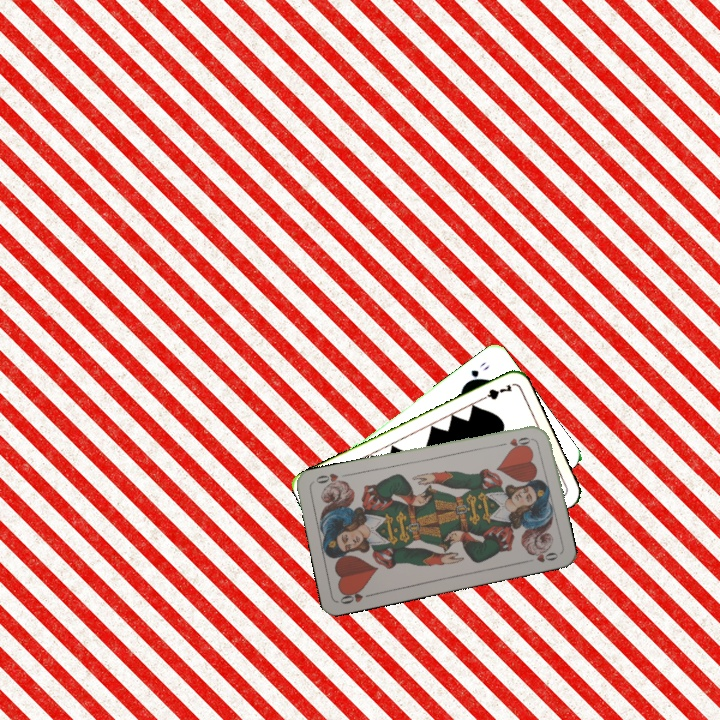G7: (475, 380, 515, 404)
GO: (461, 358, 493, 387)
HO: (336, 585, 376, 607), (495, 433, 536, 450)
